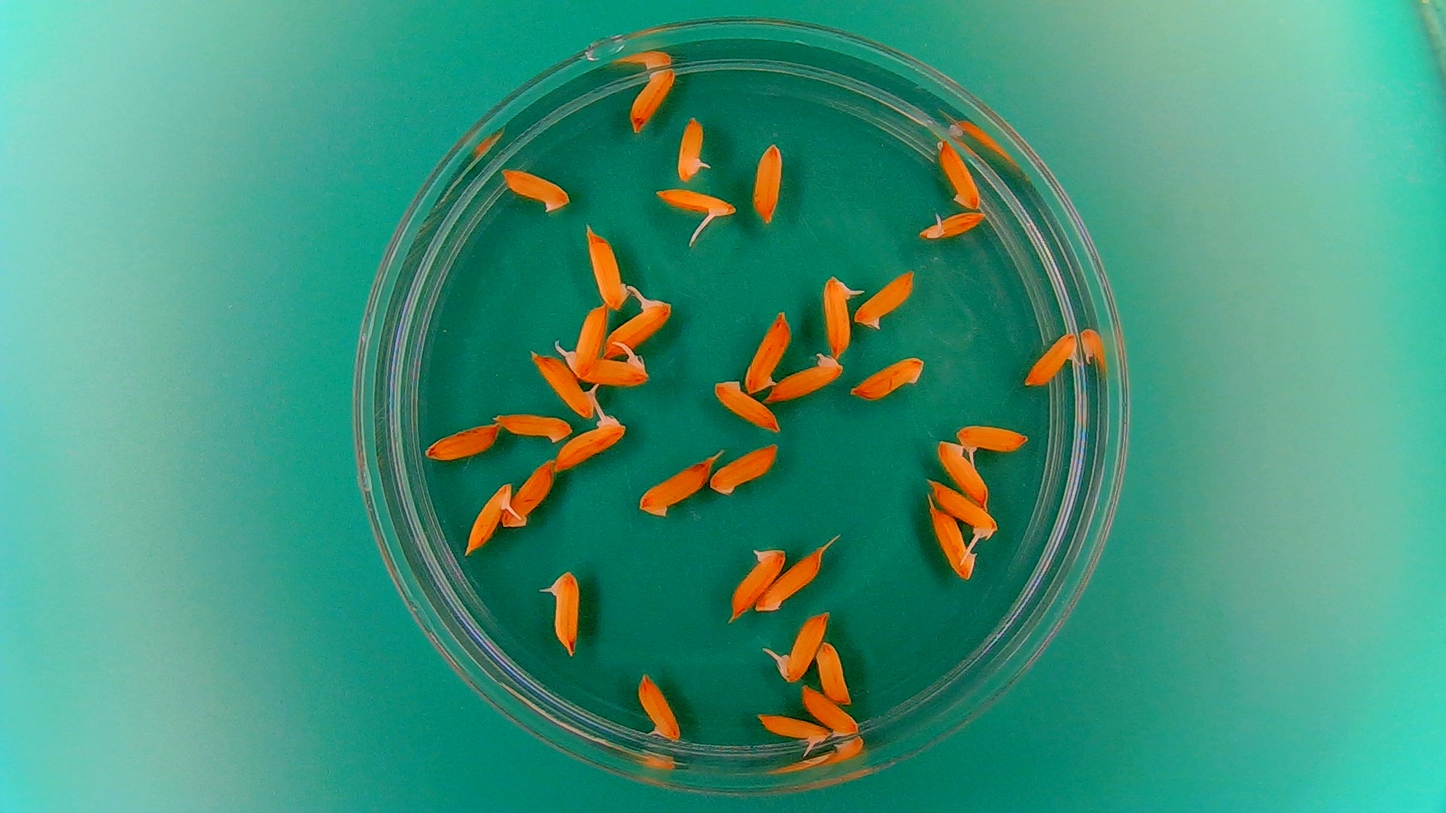no: (634, 450, 718, 521), (751, 546, 828, 614), (743, 306, 793, 395), (853, 266, 918, 333), (706, 441, 781, 498), (925, 504, 979, 582), (585, 224, 633, 311), (934, 437, 992, 507), (711, 376, 782, 431), (935, 136, 984, 213), (498, 164, 571, 214), (849, 355, 928, 401), (505, 461, 558, 529), (420, 420, 501, 464), (798, 684, 862, 739), (629, 64, 678, 135), (751, 139, 785, 225), (490, 410, 575, 444), (816, 639, 853, 705)
yes: (727, 541, 787, 621), (532, 354, 600, 419), (602, 294, 669, 358), (766, 349, 846, 402), (552, 417, 630, 470), (463, 484, 516, 556), (1021, 329, 1084, 388), (931, 481, 999, 534), (561, 349, 651, 389), (821, 272, 862, 358), (779, 615, 829, 685), (636, 674, 682, 744), (953, 422, 1031, 460), (753, 711, 831, 749), (542, 574, 581, 650), (654, 185, 736, 221), (566, 306, 608, 375), (917, 208, 985, 243), (677, 115, 709, 183)
